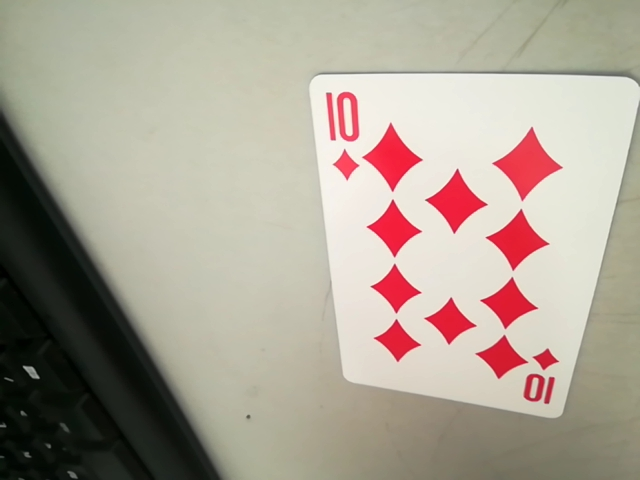fk 10: (317, 84, 371, 164), (512, 348, 562, 413)
